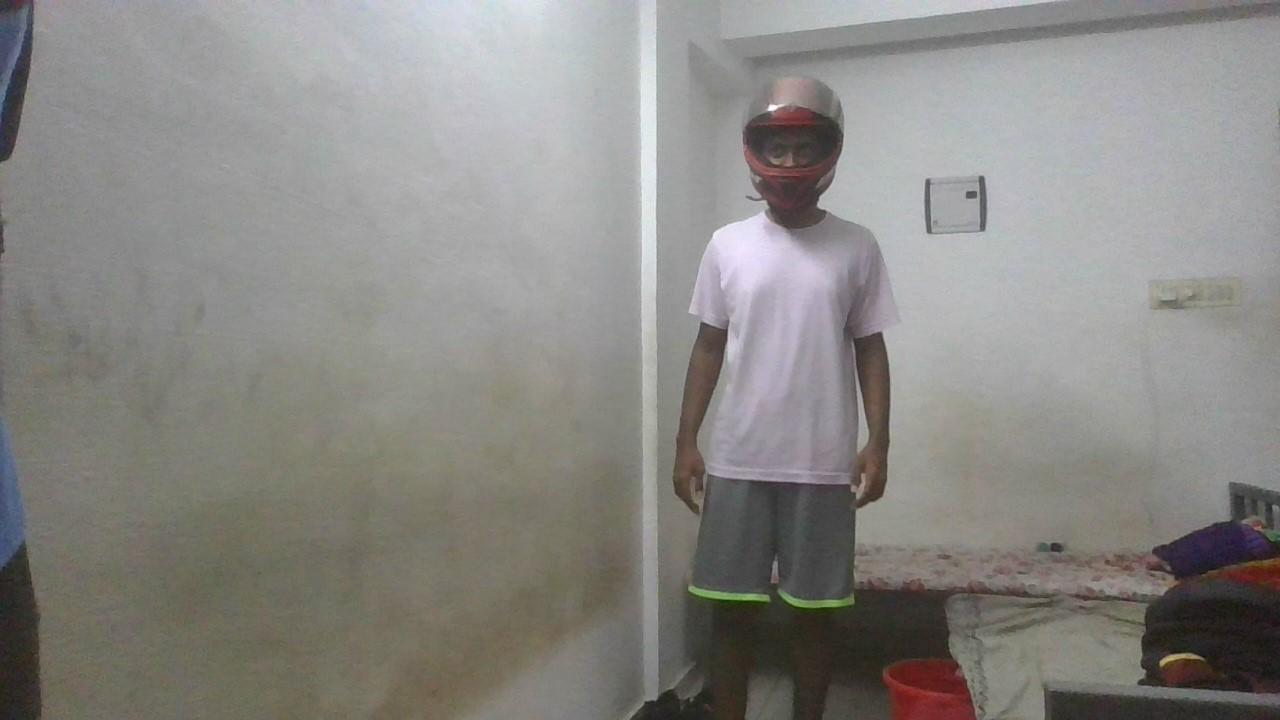helmet: (741, 74, 845, 217)
